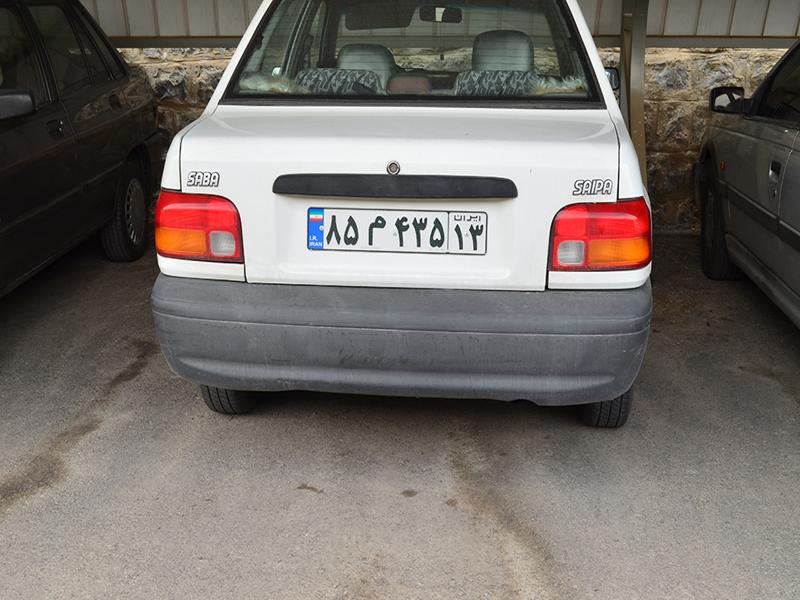Plate: (308, 209, 494, 261)
